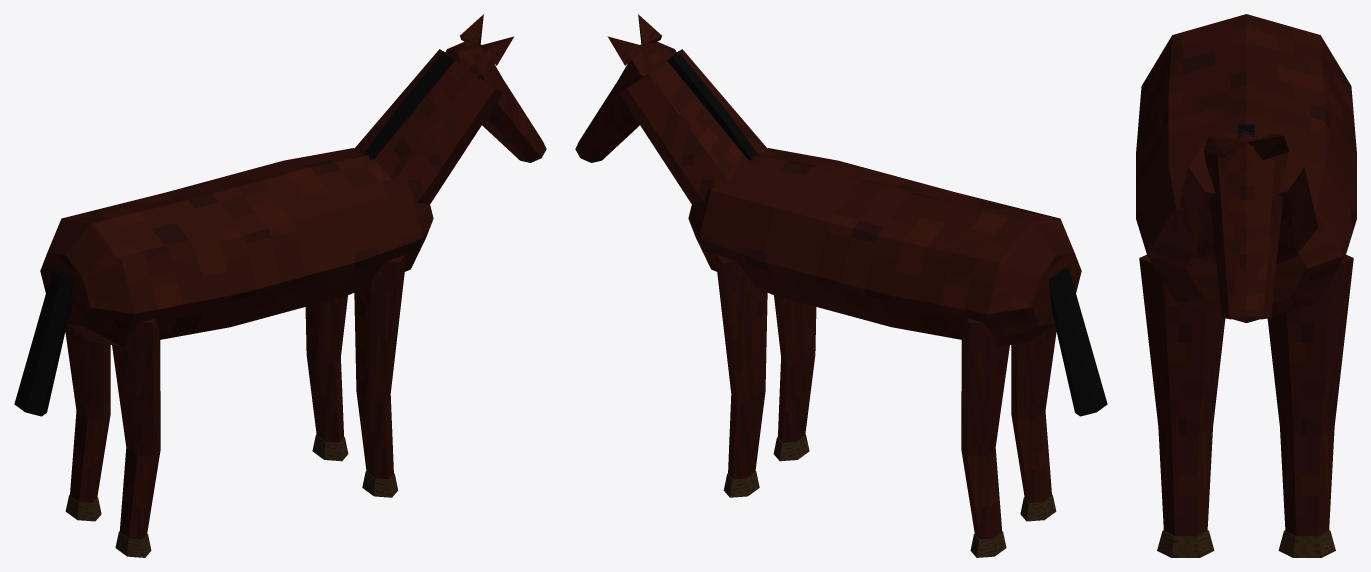
Rendered from mula.glb.
3 views of the same model, side by side, from view 1: azimuth 30°, elevation 25°; view 2: azimuth 150°, elevation 25°; view 3: azimuth 270°, elevation 25° (orthographic). The views are drawn at different scales.
Parts seen in each view (by area): view 1: cuerpo, cuello, pata_delantera_der, pata_trasera_der, pata_trasera_izq, pata_delantera_izq, cola, cabeza, crin, orejas, pezuna_trasera_izq, pezuna_delantera_izq (+2 smaller); view 2: cuerpo, cuello, pata_delantera_izq, pata_trasera_izq, pata_trasera_der, pata_delantera_der, cola, cabeza, crin, orejas, pezuna_trasera_der, pezuna_delantera_izq (+2 smaller); view 3: cuerpo, pata_delantera_izq, pata_delantera_der, cabeza, cuello, orejas, pezuna_delantera_izq, pezuna_delantera_der.
Boxes of the visible parts, <box> form: cuerpo: <box>40,148,433,346</box>; cuello: <box>352,49,502,203</box>; pata_delantera_der: <box>354,255,405,479</box>; pata_trasera_der: <box>112,318,160,539</box>; pata_trasera_izq: <box>65,325,110,502</box>; pata_delantera_izq: <box>305,295,347,442</box>; cola: <box>14,267,73,416</box>; cabeza: <box>445,41,546,162</box>; crin: <box>363,52,454,159</box>; orejas: <box>460,14,514,65</box>; pezuna_trasera_izq: <box>65,494,101,521</box>; pezuna_delantera_izq: <box>312,434,348,461</box>; cuerpo: <box>688,148,1081,346</box>; cuello: <box>619,49,769,203</box>; pata_delantera_izq: <box>716,255,767,479</box>; pata_trasera_izq: <box>961,318,1009,539</box>; pata_trasera_der: <box>1011,325,1056,502</box>; pata_delantera_der: <box>774,295,816,442</box>; cola: <box>1048,267,1107,416</box>; cabeza: <box>575,41,676,162</box>; crin: <box>667,52,758,159</box>; orejas: <box>607,14,661,65</box>; pezuna_trasera_der: <box>1020,494,1056,521</box>; pezuna_delantera_izq: <box>723,471,759,497</box>; cuerpo: <box>1136,14,1356,322</box>; pata_delantera_izq: <box>1267,254,1353,536</box>; pata_delantera_der: <box>1139,254,1225,536</box>; cabeza: <box>1204,135,1288,319</box>; cuello: <box>1175,131,1317,264</box>; orejas: <box>1203,133,1289,160</box>; pezuna_delantera_izq: <box>1278,530,1335,557</box>; pezuna_delantera_der: <box>1157,530,1214,557</box>.
Size of the model in its own units: 2 by 1.5 by 0.6.
Materials: 1 (1 with a texture image).
